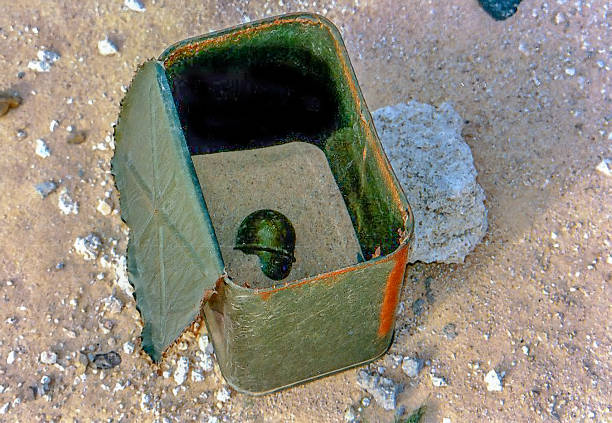e1: (238, 210, 297, 289)
